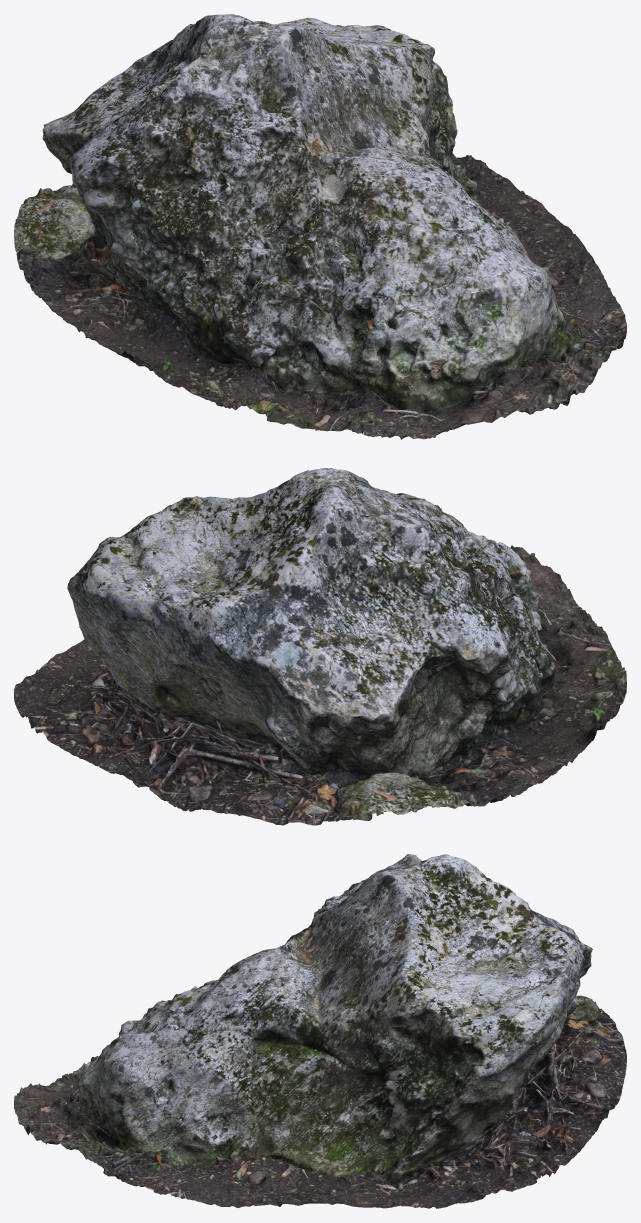
Rendered from rock3.glb.
3 renders of one model, top to bottom at view 1: azimuth 30°, elevation 25°; view 2: azimuth 150°, elevation 25°; view 3: azimuth 270°, elevation 25°, orthographic. The views are drawn at different scales.
Parts seen in each view (by area): view 1: sutr30; view 2: sutr30; view 3: sutr30.
Boxes of the visible parts, x1,y1,x2,y2 form: sutr30: [14, 14, 626, 439]; sutr30: [14, 468, 626, 825]; sutr30: [14, 854, 626, 1208].
Bounding box in the file's own units: 1.37 × 0.739 × 1.67.
Materials: 1 (1 with a texture image).
